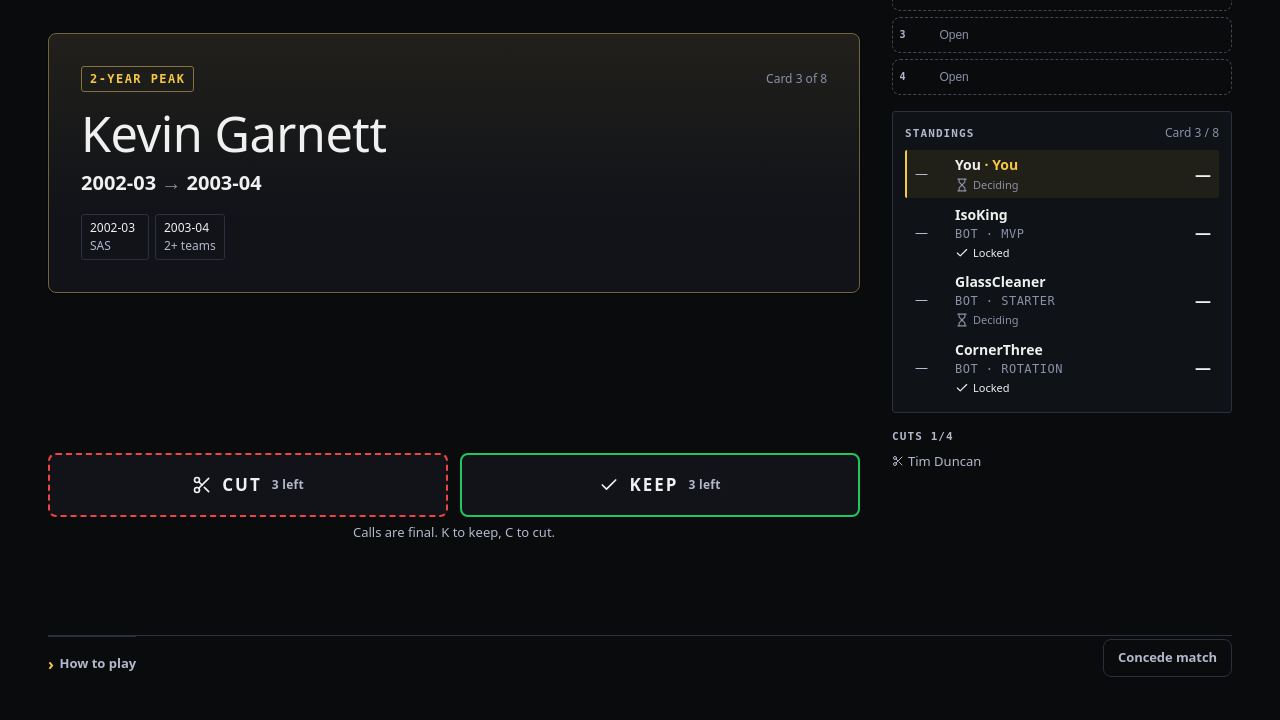
Test: PRIME CUT room › does not retry once the card has moved on, and says why
The width and height of the screenshot is (1280, 720).
(page scrolled)
Step 1. Click the button with test id "pcut-keep" → click(660, 485), box left=460, top=453, right=860, bottom=517
(page scrolled)
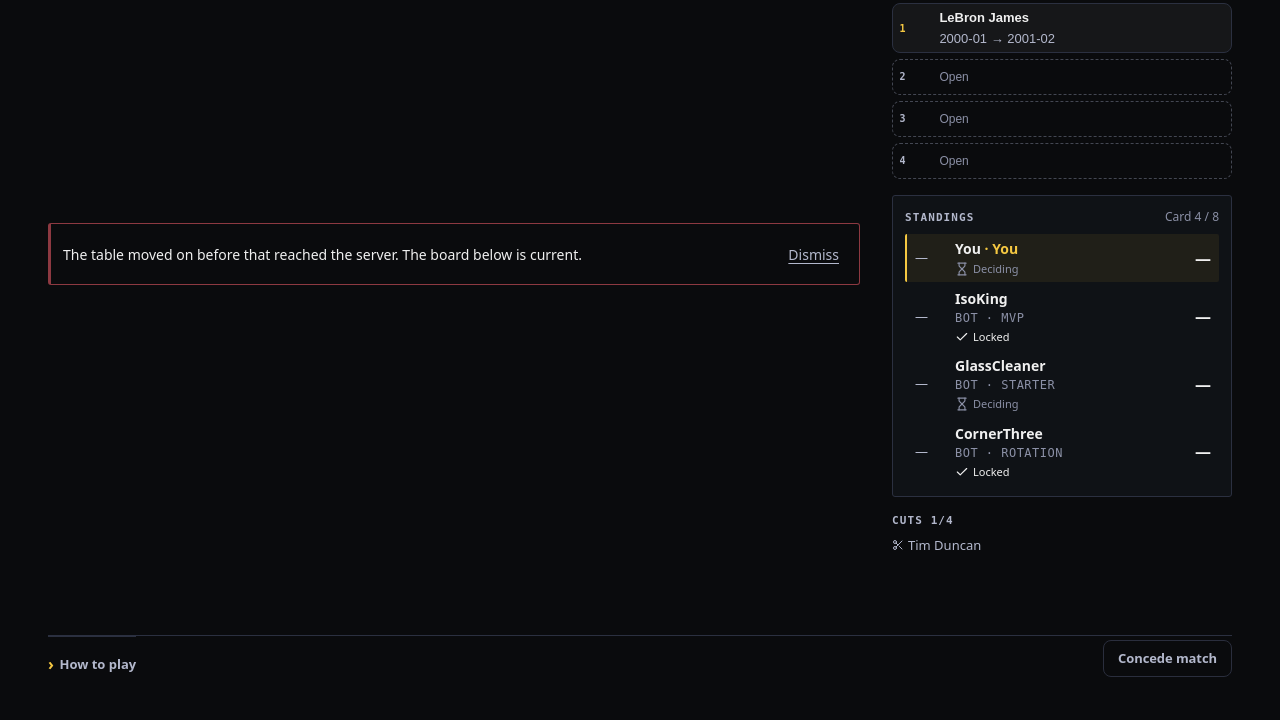
Expected: the message with test id "pcut-error" shows "The table moved on", left=63, top=244, right=582, bottom=264
